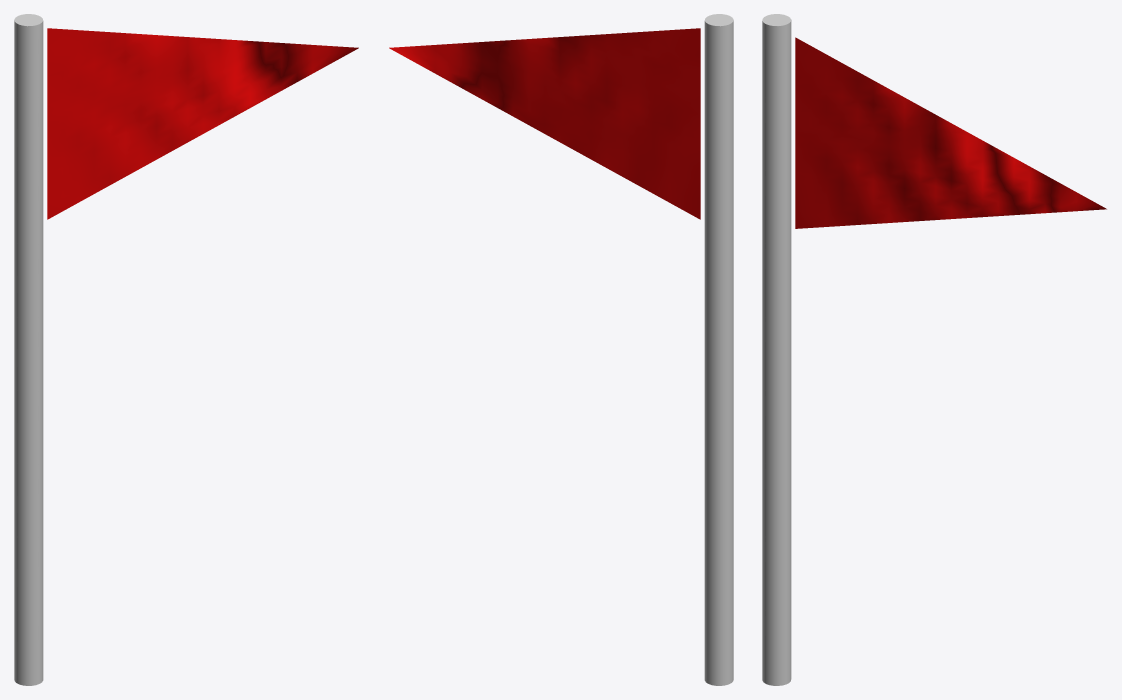
Rendered from flag.fbx.
3 views of the same model, side by side, from view 1: azimuth 30°, elevation 25°; view 2: azimuth 150°, elevation 25°; view 3: azimuth 330°, elevation 25° (orthographic).
Parts seen in each view (by area): view 1: flag, pole1; view 2: flag, pole1; view 3: flag, pole1.
Boxes of the visible parts, <box> form: flag: <box>47,28,358,219</box>; pole1: <box>14,14,43,685</box>; flag: <box>389,28,700,219</box>; pole1: <box>704,14,733,685</box>; flag: <box>795,37,1106,228</box>; pole1: <box>762,14,791,685</box>.
Size of the model in its own units: 37.45 by 68.75 by 2.74.
